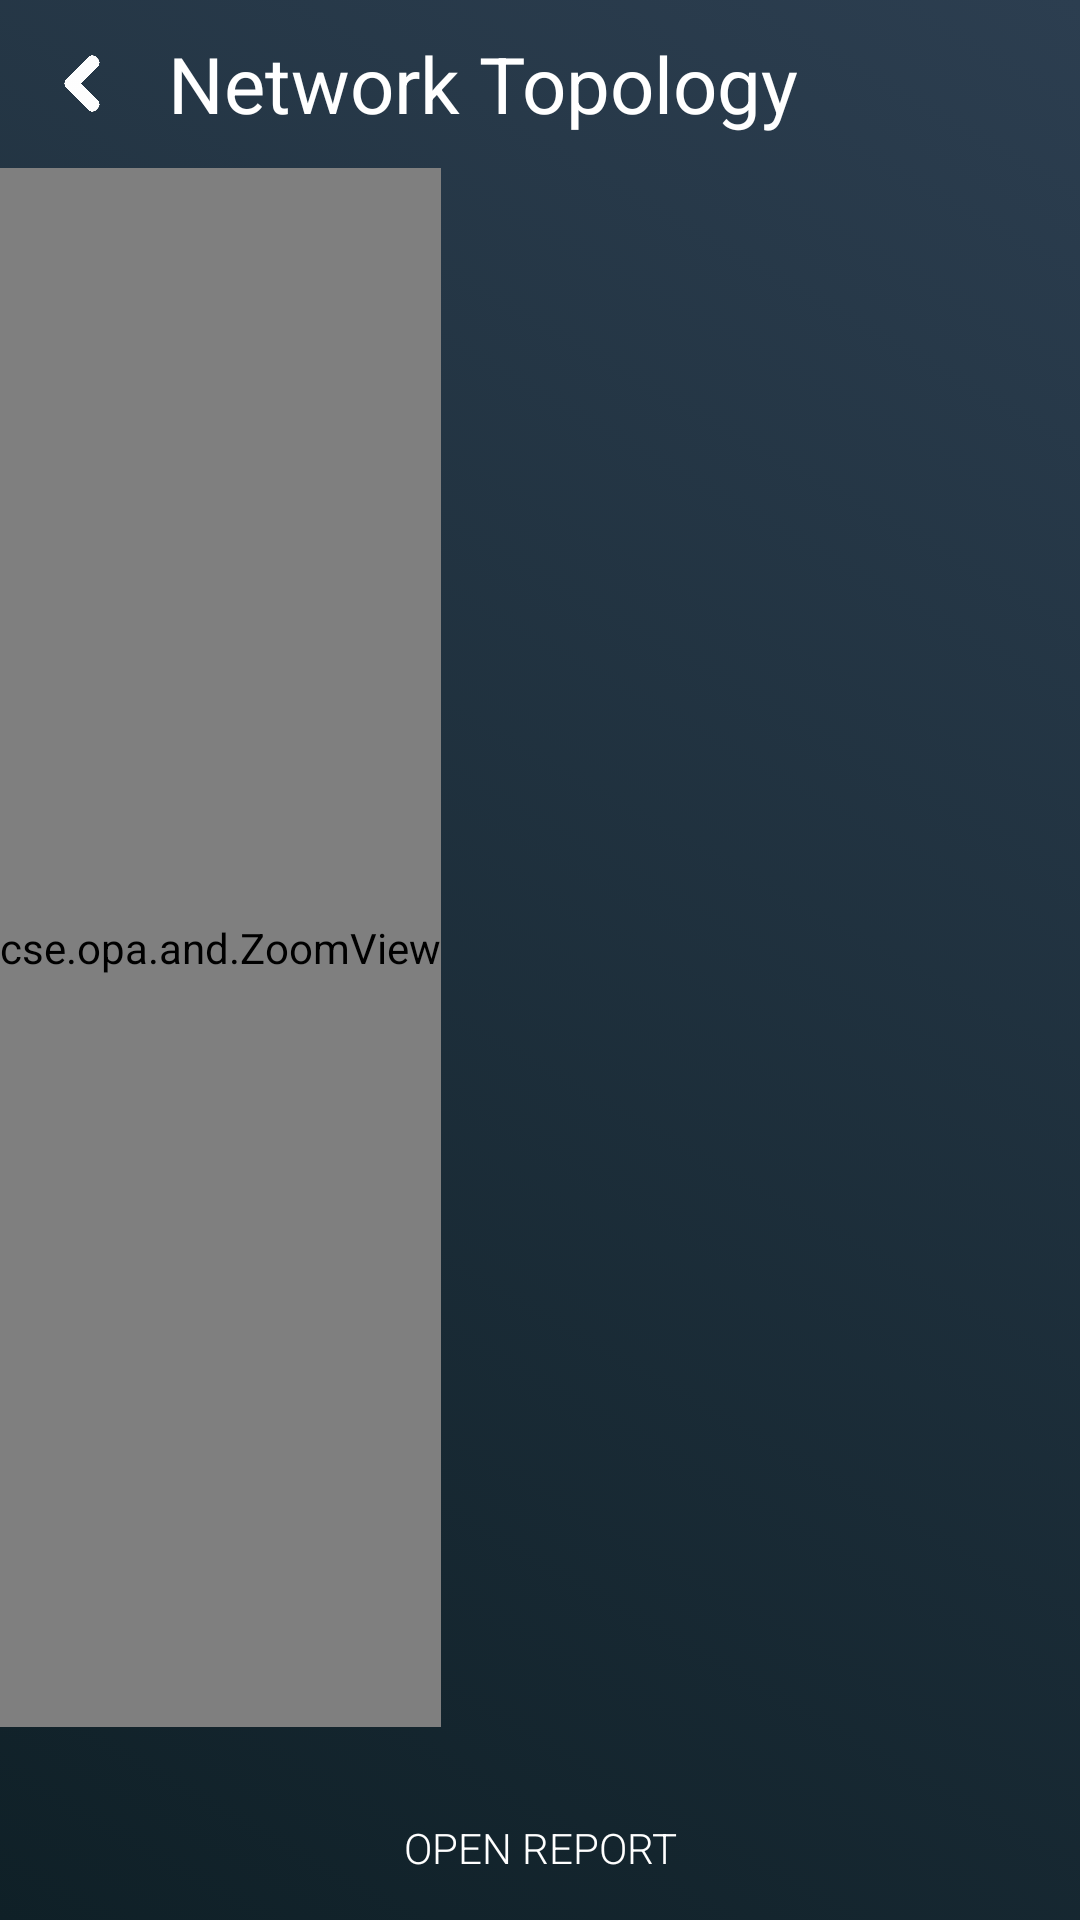

Icons on this 1080x1920 Android screen, each with its box as (x1, y1, x2, y2):
back: (64, 55, 100, 112)
